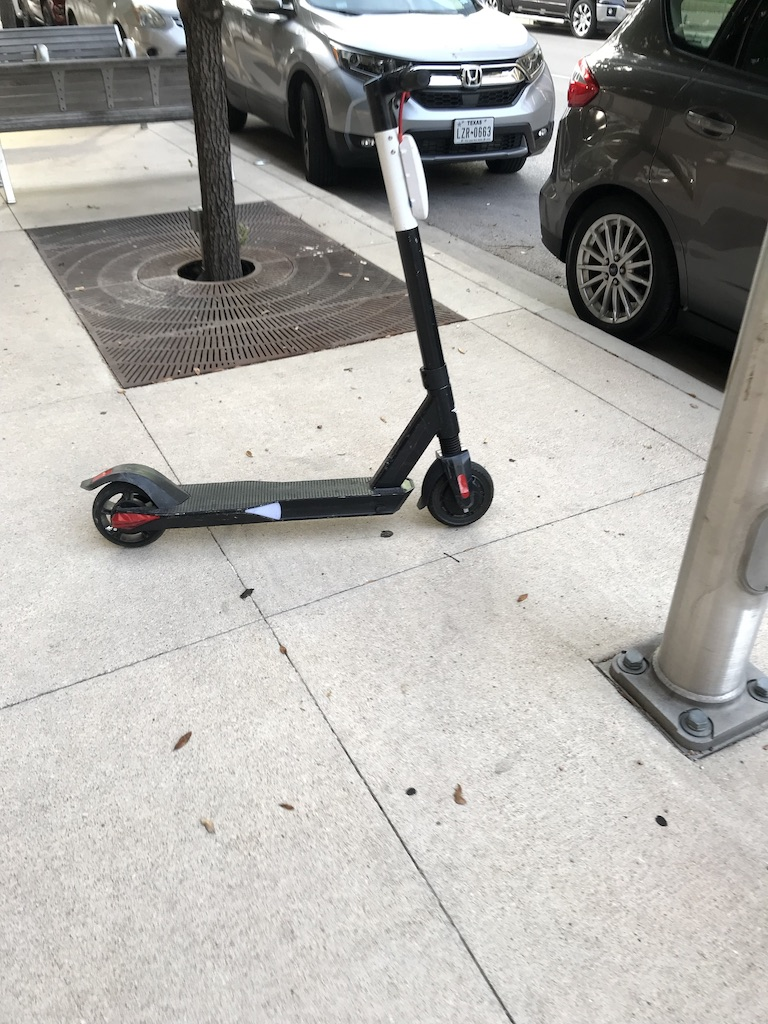scooter: (79, 66, 497, 550)
